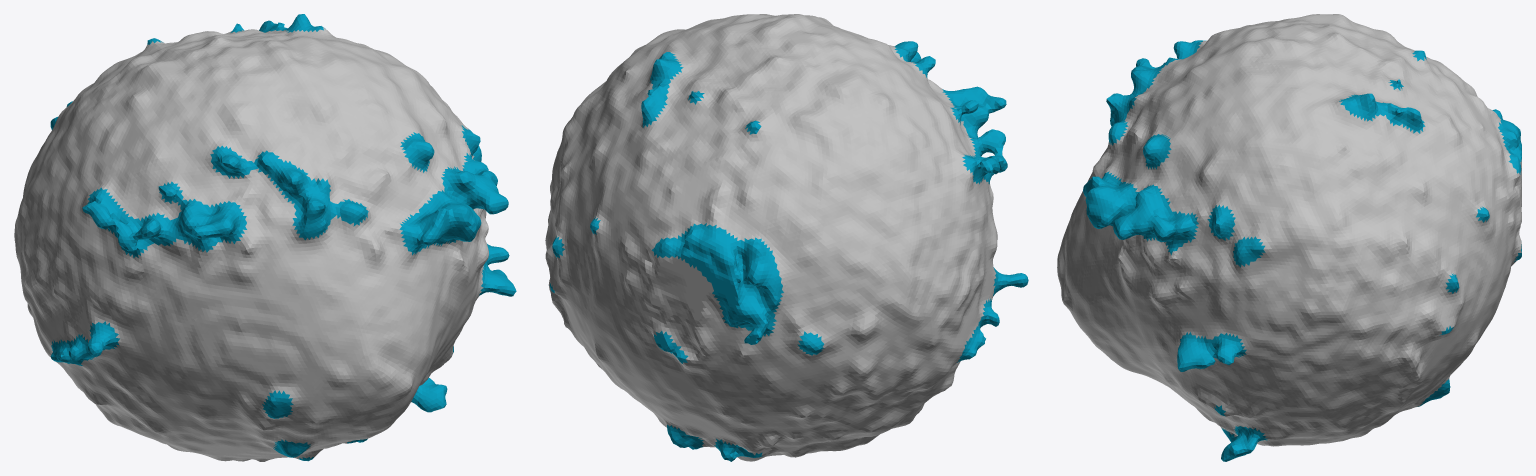
3 renders of one model, left to right at view 1: azimuth 30°, elevation 25°; view 2: azimuth 150°, elevation 25°; view 3: azimuth 270°, elevation 25°, orthographic. The views are drawn at different scales.
Bounding box in the file's own units: 95.49 × 88.14 × 95.32.
